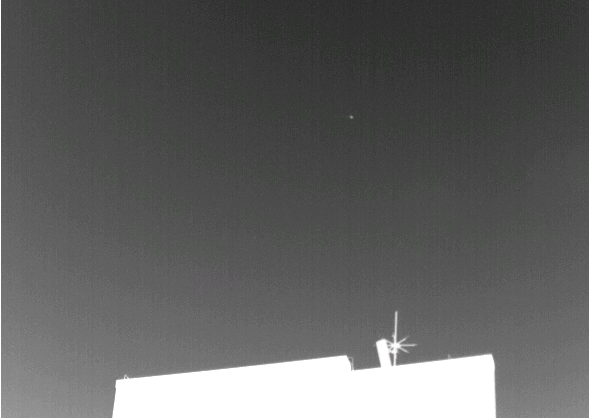dim target: (348, 114, 355, 120)
